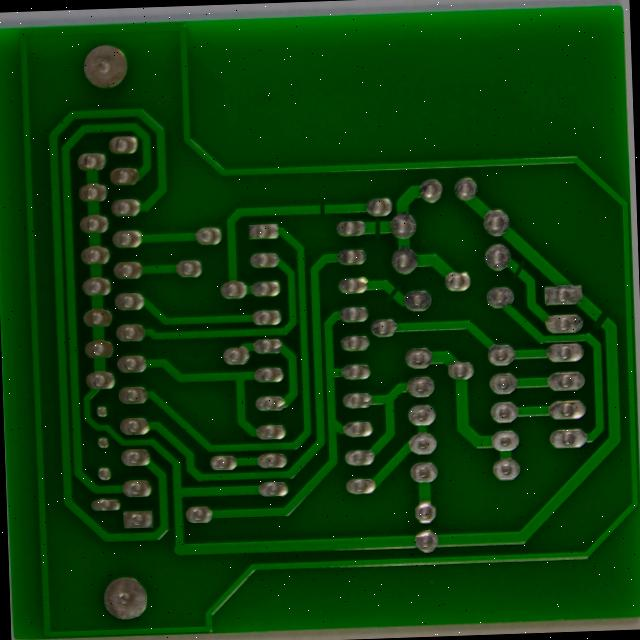open_circuit: (588, 288, 612, 319), (503, 241, 524, 264), (371, 265, 389, 287), (354, 195, 371, 217), (296, 176, 312, 196)
